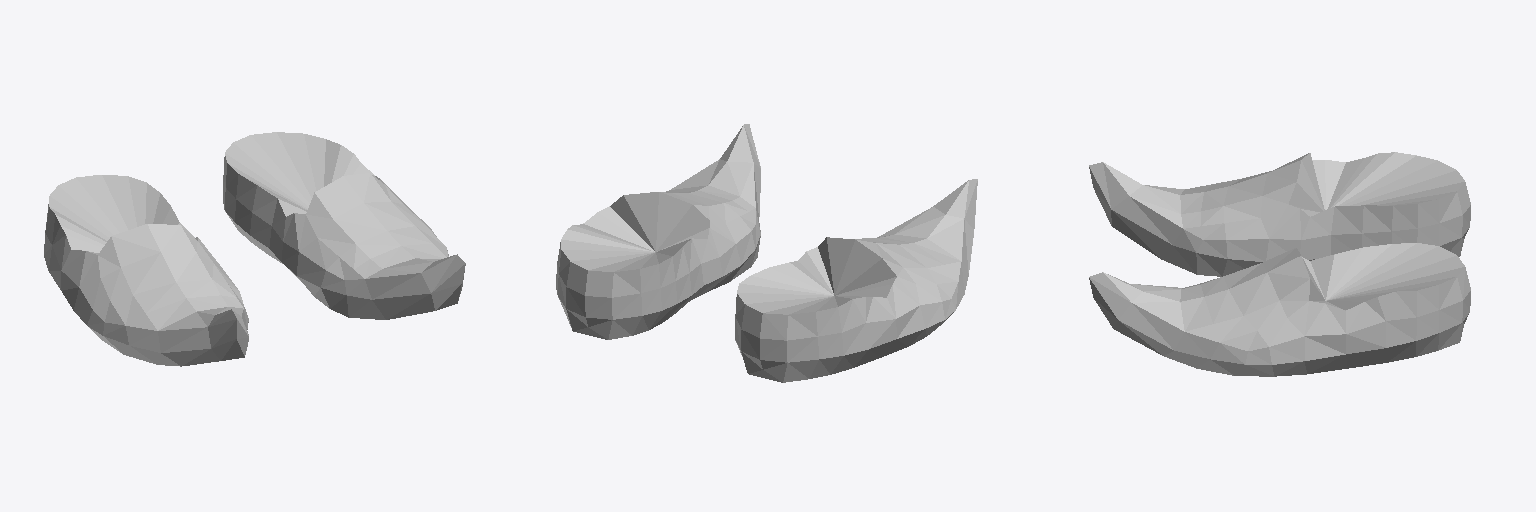
File: shoes01.obj
The picture shows the model from 3 angles: view 1: azimuth 30°, elevation 25°; view 2: azimuth 150°, elevation 25°; view 3: azimuth 270°, elevation 25°; orthographic projection.
Parts seen in each view (by area): view 1: group2 girl; view 2: group2 girl; view 3: group2 girl.
Boxes of the visible parts, <box> form: group2 girl: <box>44,132,465,366</box>; group2 girl: <box>556,124,977,382</box>; group2 girl: <box>1089,152,1470,376</box>.
Size of the model in its own units: 0.1693 by 0.0451 by 0.162.